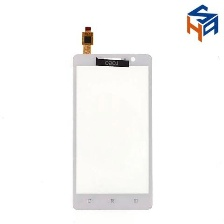phone: (70, 49, 159, 212)
